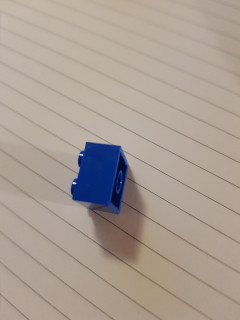2x2 blue: (69, 140, 130, 217)
